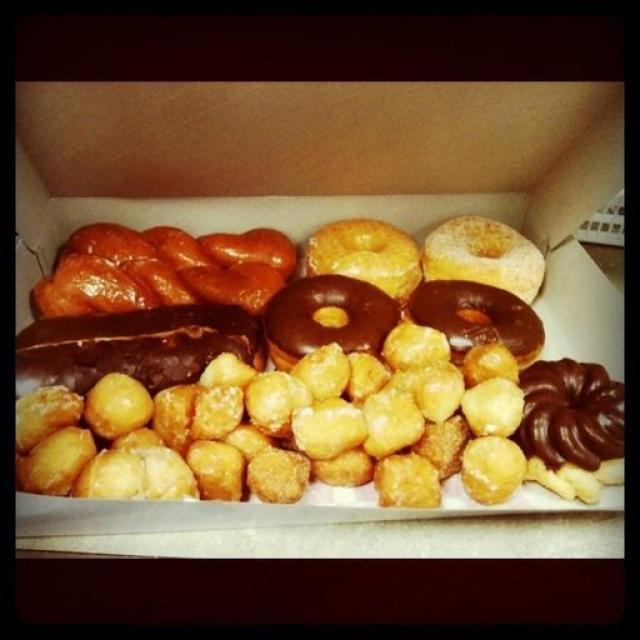Donuts: (262, 210, 558, 361)
